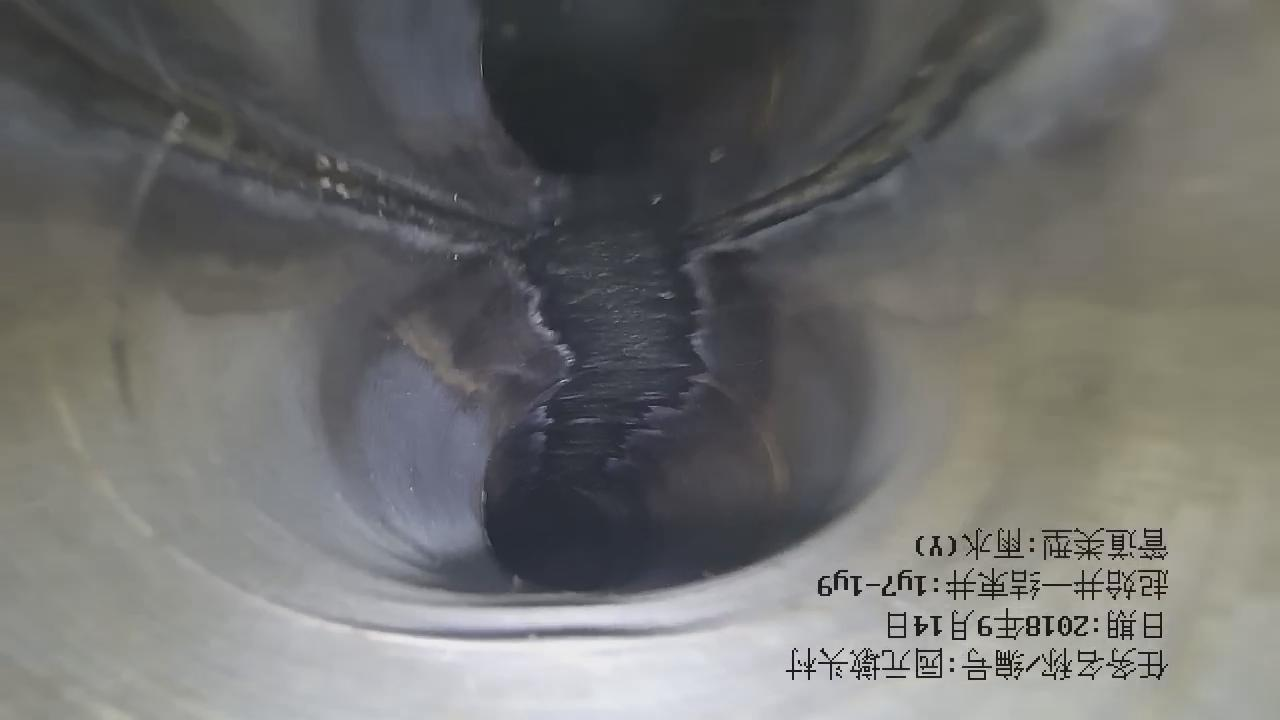BX: (128, 453, 914, 668)
